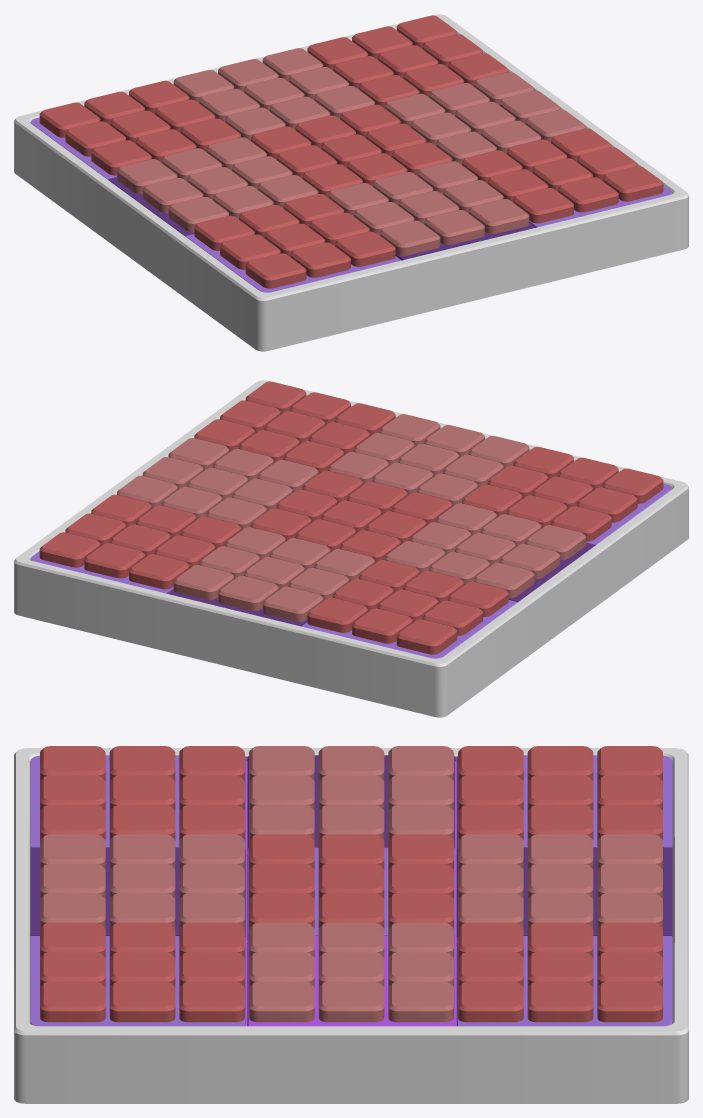
File: cubes2.fbx
The picture shows the model from 3 angles, top to bottom: view 1: azimuth 30°, elevation 25°; view 2: azimuth 150°, elevation 25°; view 3: azimuth 270°, elevation 25°; orthographic projection. The views are drawn at different scales.
Visible parts, largest first — view 1: Cube.001, Cube.007, Plane.086, Plane.061, Plane.073, Plane.070, Plane.079, Plane.064, Plane.060, Plane.078, Plane.069, Plane.017 (+71 smaller); view 2: Cube.001, Cube.007, Plane.027, Plane.041, Plane.036, Plane.023, Plane.032, Plane.045, Plane.021, Plane.039, Plane.030, Plane.017 (+71 smaller); view 3: Cube.001, Cube.007, Plane.040, Plane.058, Plane.049, Plane.041, Plane.043, Plane.050, Plane.052, Plane.059, Plane.061, Plane.044 (+71 smaller).
Part boxes in pixels (bbox=[...]): Cube.001: bbox=[14, 14, 688, 351]; Cube.007: bbox=[30, 117, 672, 292]; Plane.086: bbox=[245, 253, 306, 288]; Plane.061: bbox=[602, 166, 663, 201]; Plane.073: bbox=[379, 220, 440, 255]; Plane.070: bbox=[468, 199, 529, 234]; Plane.079: bbox=[335, 231, 395, 266]; Plane.064: bbox=[513, 188, 573, 223]; Plane.060: bbox=[558, 177, 618, 212]; Plane.078: bbox=[290, 242, 350, 277]; Plane.069: bbox=[424, 210, 484, 244]; Plane.017: bbox=[142, 178, 203, 213]; Cube.001: bbox=[14, 380, 688, 717]; Cube.007: bbox=[30, 483, 672, 658]; Plane.027: bbox=[396, 619, 457, 654]; Plane.041: bbox=[39, 532, 100, 567]; Plane.036: bbox=[262, 586, 323, 621]; Plane.023: bbox=[307, 597, 367, 632]; Plane.032: bbox=[173, 565, 234, 600]; Plane.045: bbox=[129, 554, 189, 589]; Plane.021: bbox=[352, 608, 412, 643]; Plane.039: bbox=[84, 543, 144, 578]; Plane.030: bbox=[218, 576, 278, 610]; Plane.017: bbox=[499, 544, 560, 579]; Cube.001: bbox=[14, 748, 688, 1103]; Cube.007: bbox=[30, 755, 672, 1026]; Plane.040: bbox=[527, 981, 593, 1022]; Plane.058: bbox=[109, 981, 175, 1022]; Plane.049: bbox=[318, 981, 384, 1022]; Plane.041: bbox=[597, 981, 662, 1022]; Plane.043: bbox=[458, 981, 523, 1022]; Plane.050: bbox=[388, 981, 453, 1022]; Plane.052: bbox=[249, 981, 314, 1022]; Plane.059: bbox=[179, 981, 244, 1022]; Plane.061: bbox=[40, 981, 105, 1022]; Plane.044: bbox=[527, 922, 593, 957].
Size of the model in its own units: 19.37 by 2.69 by 19.37.
